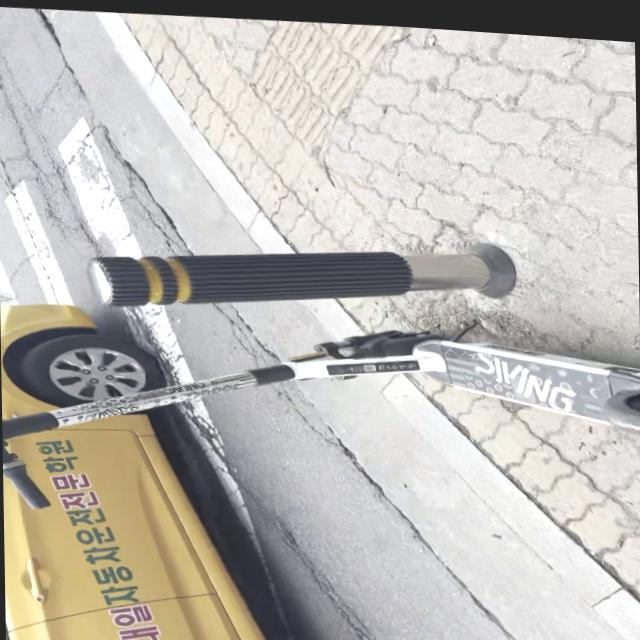crosswalk: (0, 18, 144, 286)
kickboard_no: (386, 325, 633, 415)
tactile_paving: (202, 13, 409, 178)
